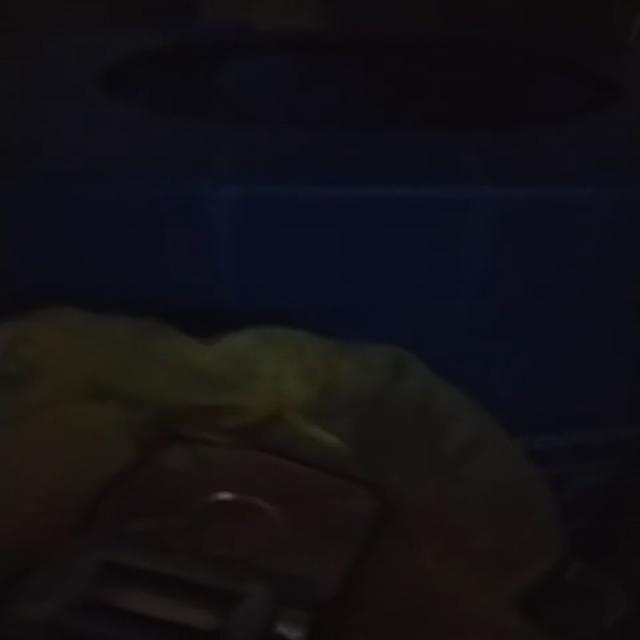bin: (2, 0, 640, 640)
metal: (3, 441, 383, 640)
